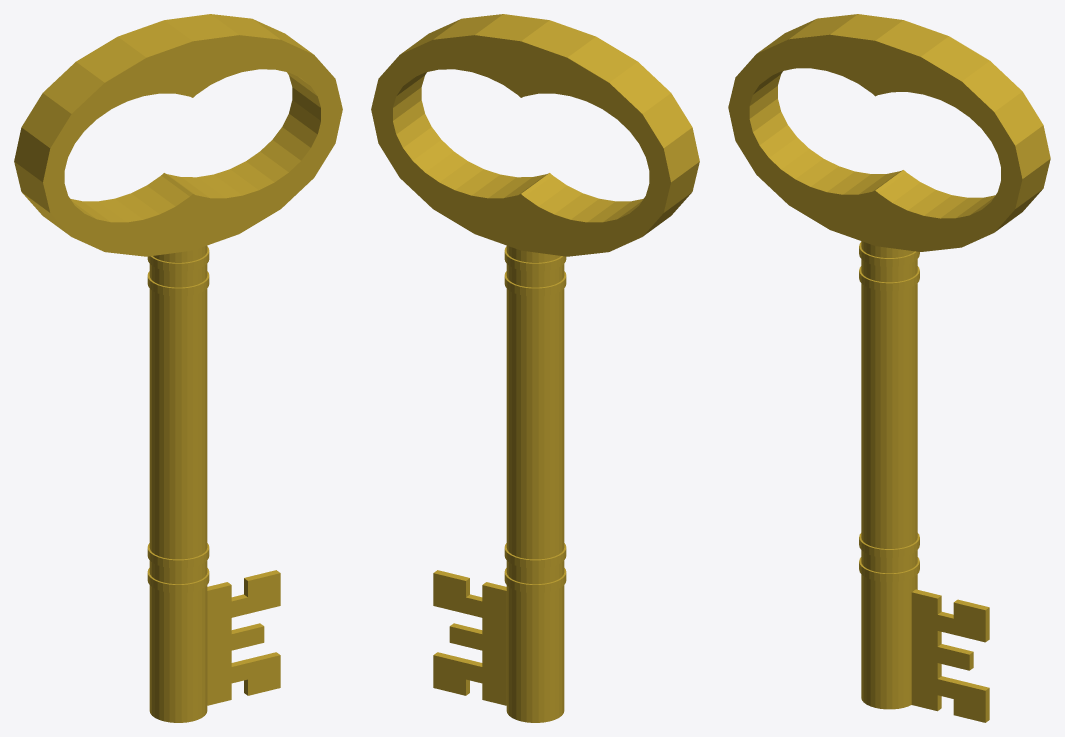
Rendered from Key.fbx.
The picture shows the model from 3 angles, left to right: view 1: azimuth 30°, elevation 25°; view 2: azimuth 150°, elevation 25°; view 3: azimuth 330°, elevation 25°; orthographic projection.
Parts seen in each view (by area): view 1: Key; view 2: Key; view 3: Key.
Part boxes in pixels (bbox=[...]): Key: bbox=[14, 14, 342, 722]; Key: bbox=[371, 14, 699, 722]; Key: bbox=[728, 14, 1050, 722].
Bounding box in the file's own units: 3.81 × 8.25 × 0.6809.
